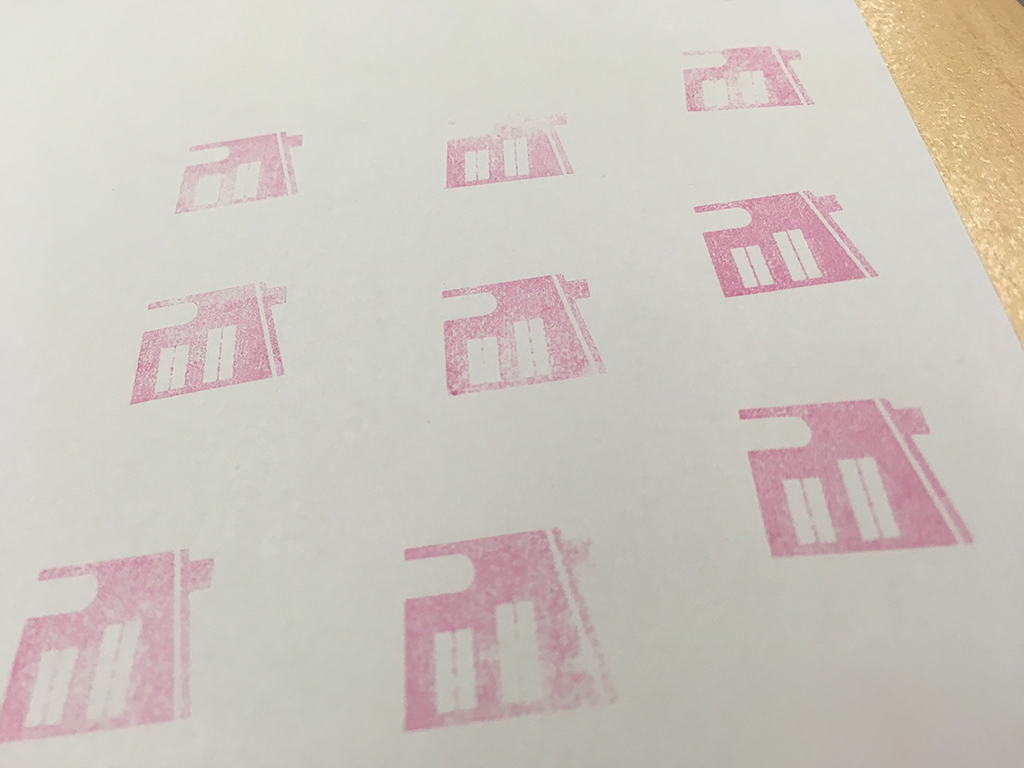house: (390, 516, 631, 736), (3, 535, 226, 747), (723, 390, 988, 559), (682, 172, 887, 306), (435, 266, 613, 402), (124, 279, 297, 412), (163, 120, 316, 220), (670, 36, 830, 126), (430, 100, 583, 190)
